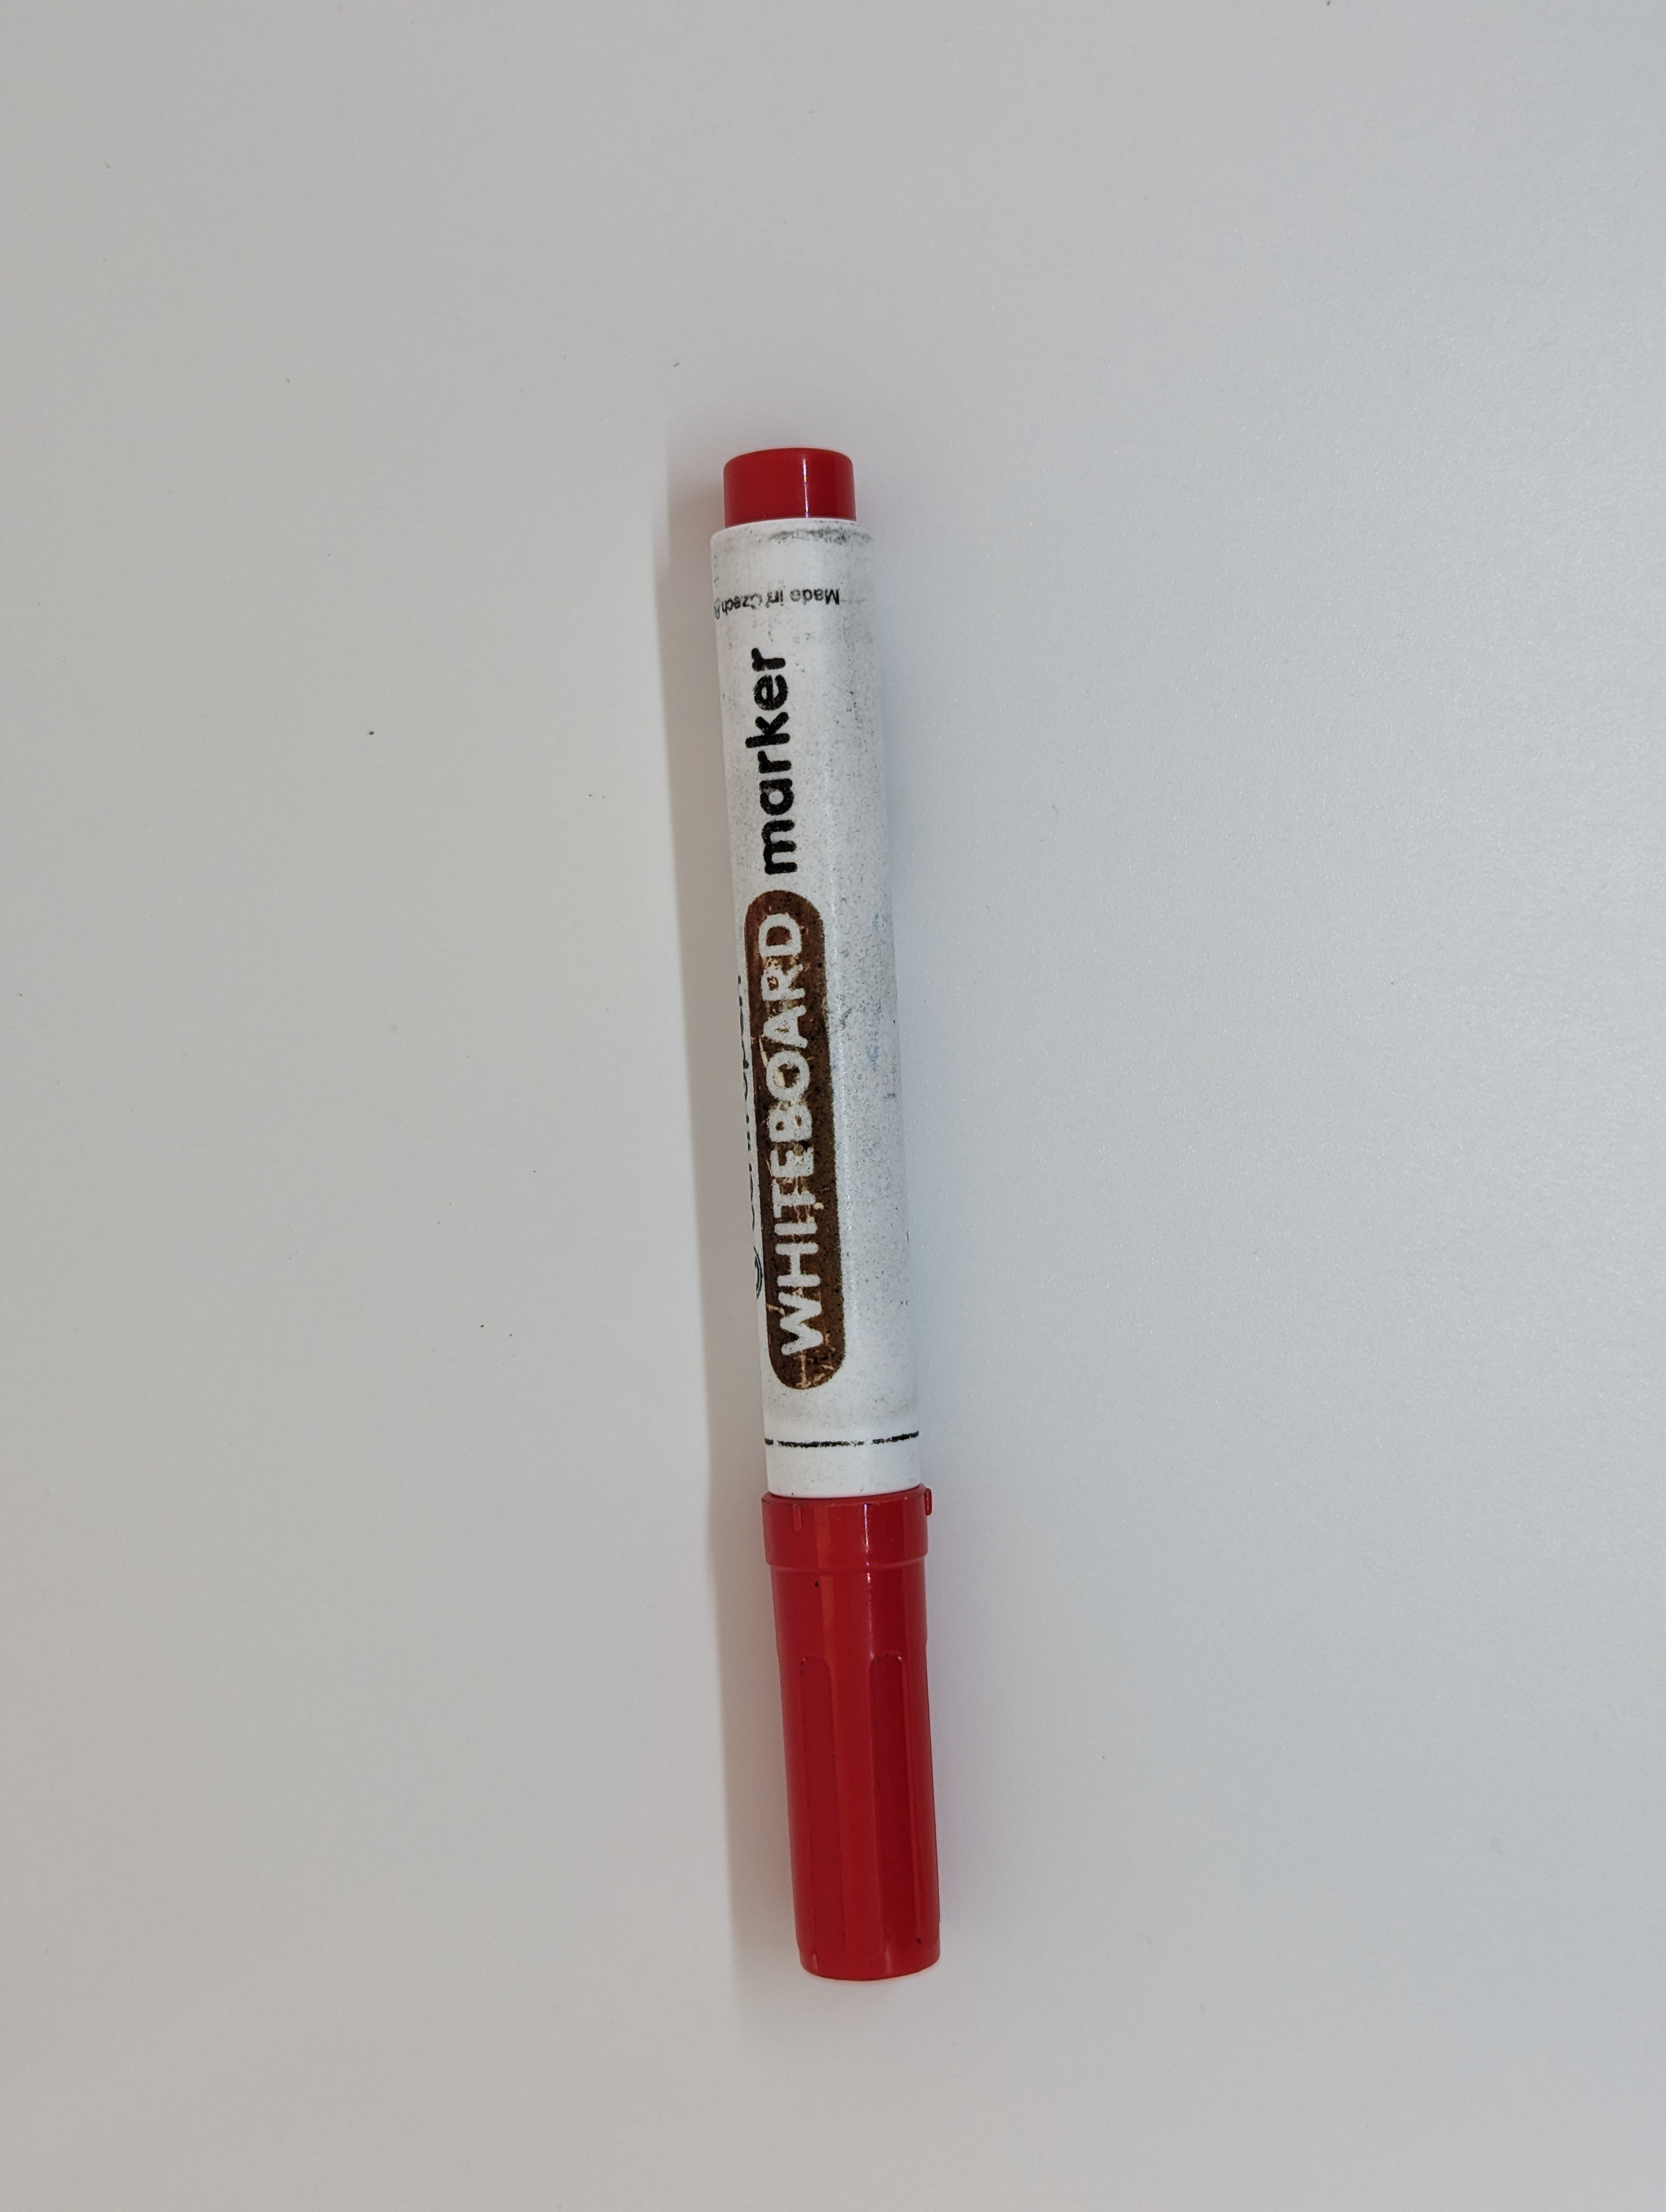red-stylo: (667, 437, 984, 2002)
